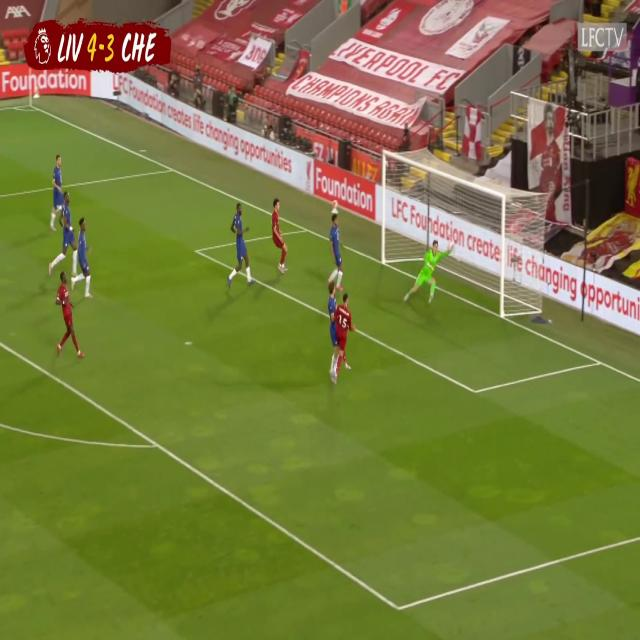team1: (55, 274, 86, 359), (335, 282, 356, 387), (271, 200, 290, 277)
team2: (227, 206, 255, 291), (51, 186, 78, 272), (70, 216, 92, 298), (47, 156, 62, 241), (328, 207, 344, 286), (330, 286, 338, 382)
